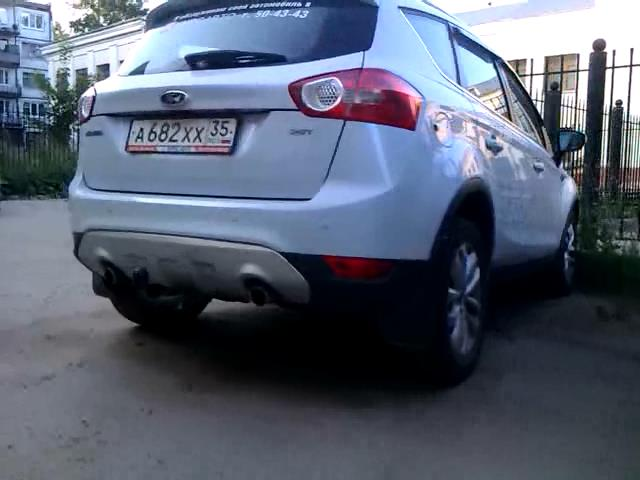car license plate: (123, 116, 239, 160)
